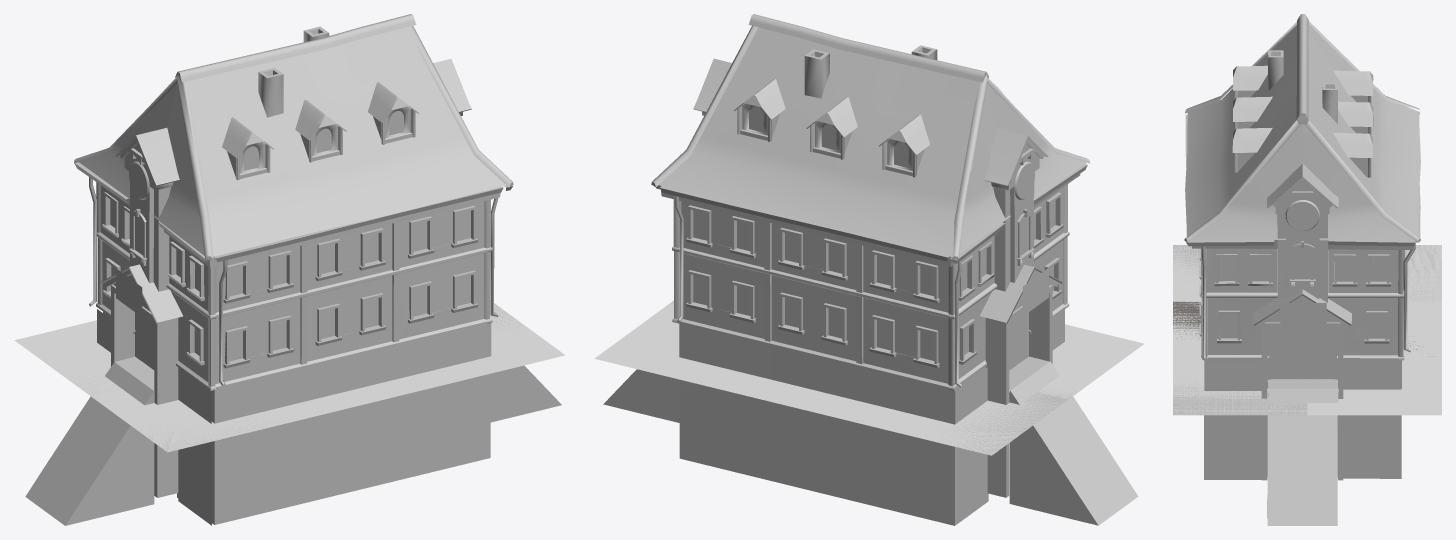
Rendered from post.gltf.
3 renders of one model, left to right at view 1: azimuth 30°, elevation 25°; view 2: azimuth 150°, elevation 25°; view 3: azimuth 270°, elevation 25°, orthographic. The views are drawn at different scales.
Parts seen in each view (by area): view 1: _post_lod0, ground; view 2: _post_lod0, ground, file_c4_corner4.007; view 3: _post_lod0, ground, file_c4_corner4.005, file_c4_corner4.007, file_c4_center3.011, file_c4_corner4.008.
Part boxes in pixels (x1=…): _post_lod0: x1=25, y1=14, x2=561, y2=525; ground: x1=15, y1=289, x2=564, y2=452; _post_lod0: x1=603, y1=14, x2=1138, y2=525; ground: x1=594, y1=288, x2=1144, y2=455; file_c4_corner4.007: x1=926, y1=392, x2=1067, y2=455; _post_lod0: x1=1184, y1=14, x2=1420, y2=525; ground: x1=1173, y1=245, x2=1441, y2=415; file_c4_corner4.005: x1=1173, y1=377, x2=1307, y2=415; file_c4_corner4.007: x1=1328, y1=245, x2=1441, y2=301; file_c4_center3.011: x1=1173, y1=301, x2=1200, y2=339; file_c4_corner4.008: x1=1173, y1=245, x2=1277, y2=292.
Bounding box in the file's own units: 3.74 × 2.93 × 2.
